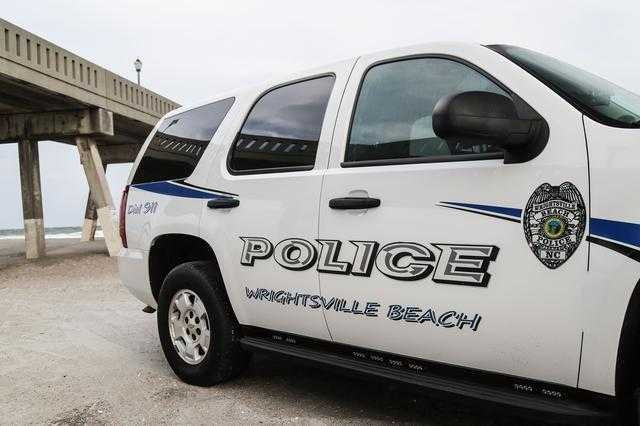Police Car: (127, 41, 640, 426)
